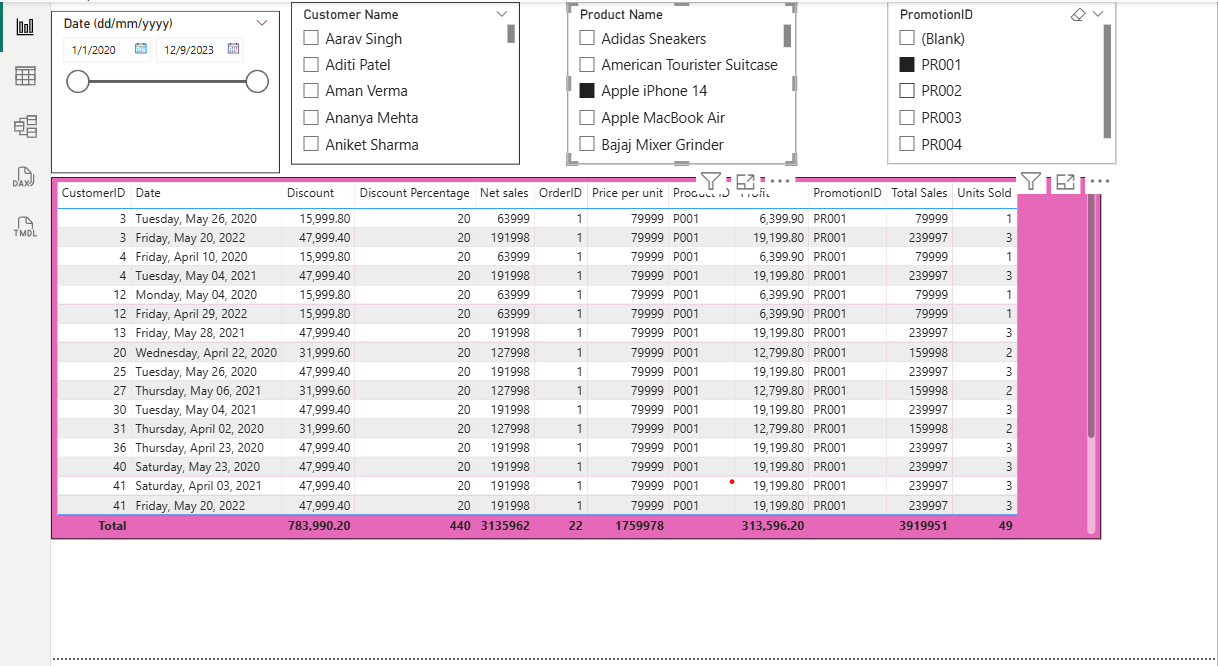

What the dashboard file says about the page in this screenshot:
{"tool":"powerbi","page":{"name":"tables and slicer filter","canvas":[1280,720],"ordinal":8},"visuals":[{"type":"tableEx","fields":{"Values":["Fact table.CustomerID","Fact table.Date (dd/mm/yyyy)","Sum(Fact table.Discount)","Sum(Fact table.Discount Percentage)","Sum(Fact table.Net sales)","CountNonNull(Fact table.OrderID)","Sum(Fact table.Price per unit)","Fact table.Product ID","Sum(Fact table.Profit)","Fact table.PromotionID","Sum(Fact table.Total Sales)","Sum(Fact table.Units Sold)"]},"box":[0,192.1,1152.7,397.9],"z":0},{"type":"slicer","fields":{"Values":["Fact table.Date (dd/mm/yyyy)"]},"box":[0,9.6,251.1,178.4],"z":1000},{"type":"slicer","fields":{"Values":["Dim Customers.Customer Name"]},"box":[263.5,0,251.1,178.4],"z":2000},{"type":"slicer","fields":{"Values":["Dim Product.Product Name"]},"box":[566.7,0,251.1,178.4],"z":3000},{"type":"slicer","fields":{"Values":["Dim Promotion.PromotionID"]},"box":[918,0,251.1,178.4],"z":4000}]}

Visuals, with their boxes on the page's 1280x720 design canvas (x1, y1, x2, y2). These are canvas units, not pixel positions in the 1218x666 screenshot, which may show the page scaled, cropped or inside an application window:
tableEx - Fact table.CustomerID x Fact table.Date (dd/mm/yyyy): [x1=0, y1=192, x2=1153, y2=590]
slicer - Fact table.Date (dd/mm/yyyy): [x1=0, y1=10, x2=251, y2=188]
slicer - Dim Customers.Customer Name: [x1=264, y1=0, x2=515, y2=178]
slicer - Dim Product.Product Name: [x1=567, y1=0, x2=818, y2=178]
slicer - Dim Promotion.PromotionID: [x1=918, y1=0, x2=1169, y2=178]
